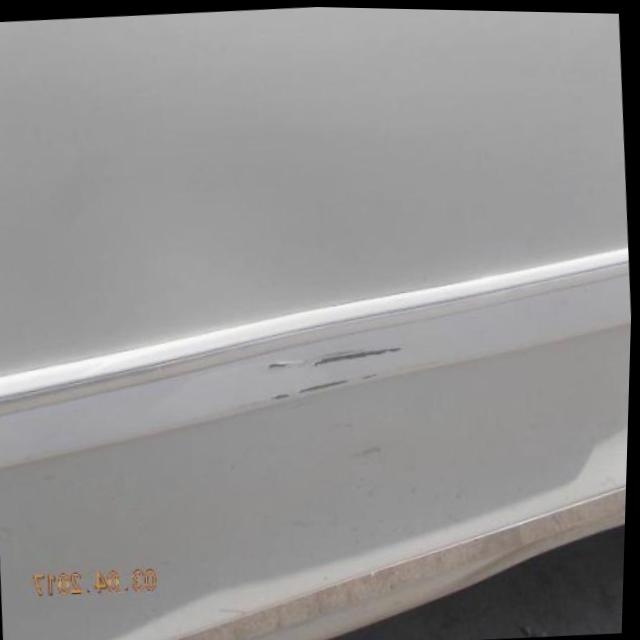Car-Damage: (264, 323, 412, 409)
